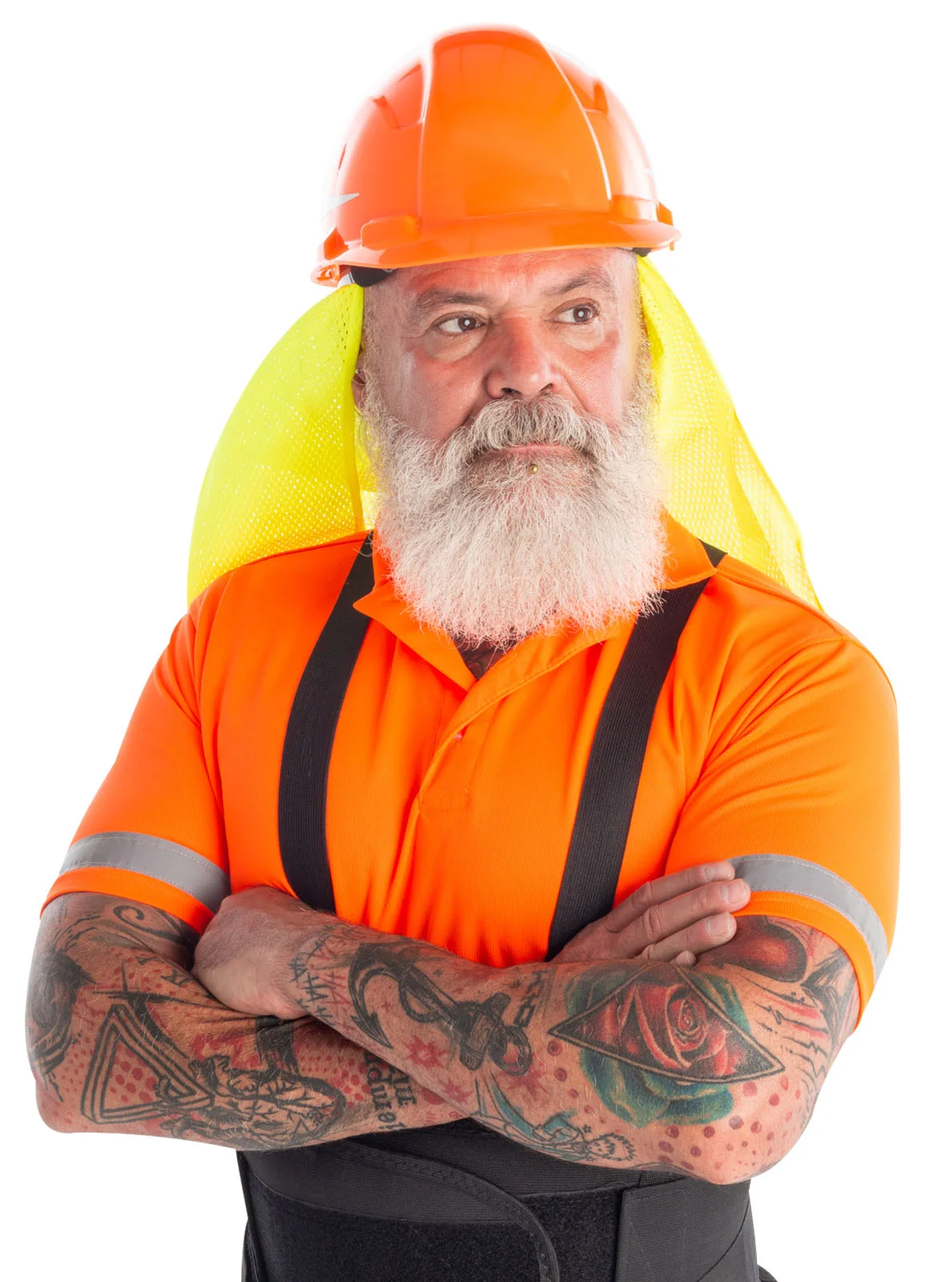Casco de seguridad: (317, 29, 677, 283)
